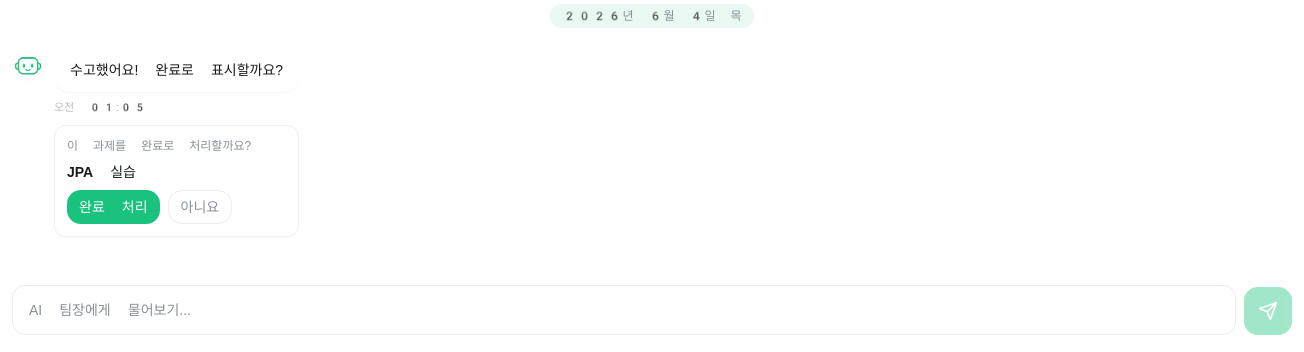
it: GroupAiPage › confirms a COMPLETE_TASK action
Click the button "완료 처리". click: coordinates (113, 206)
box: [67, 190, 160, 224]
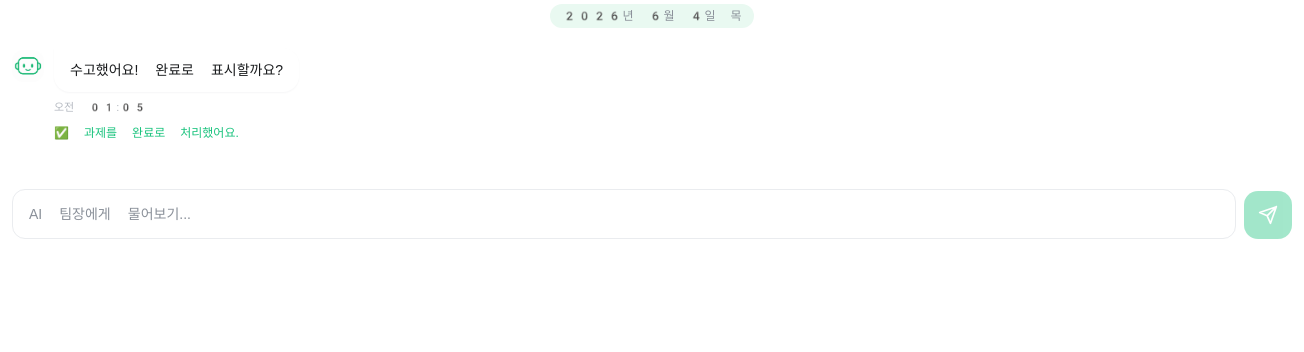
Now the text "완료로 처리했어요" is shown, box [54, 126, 239, 140]
